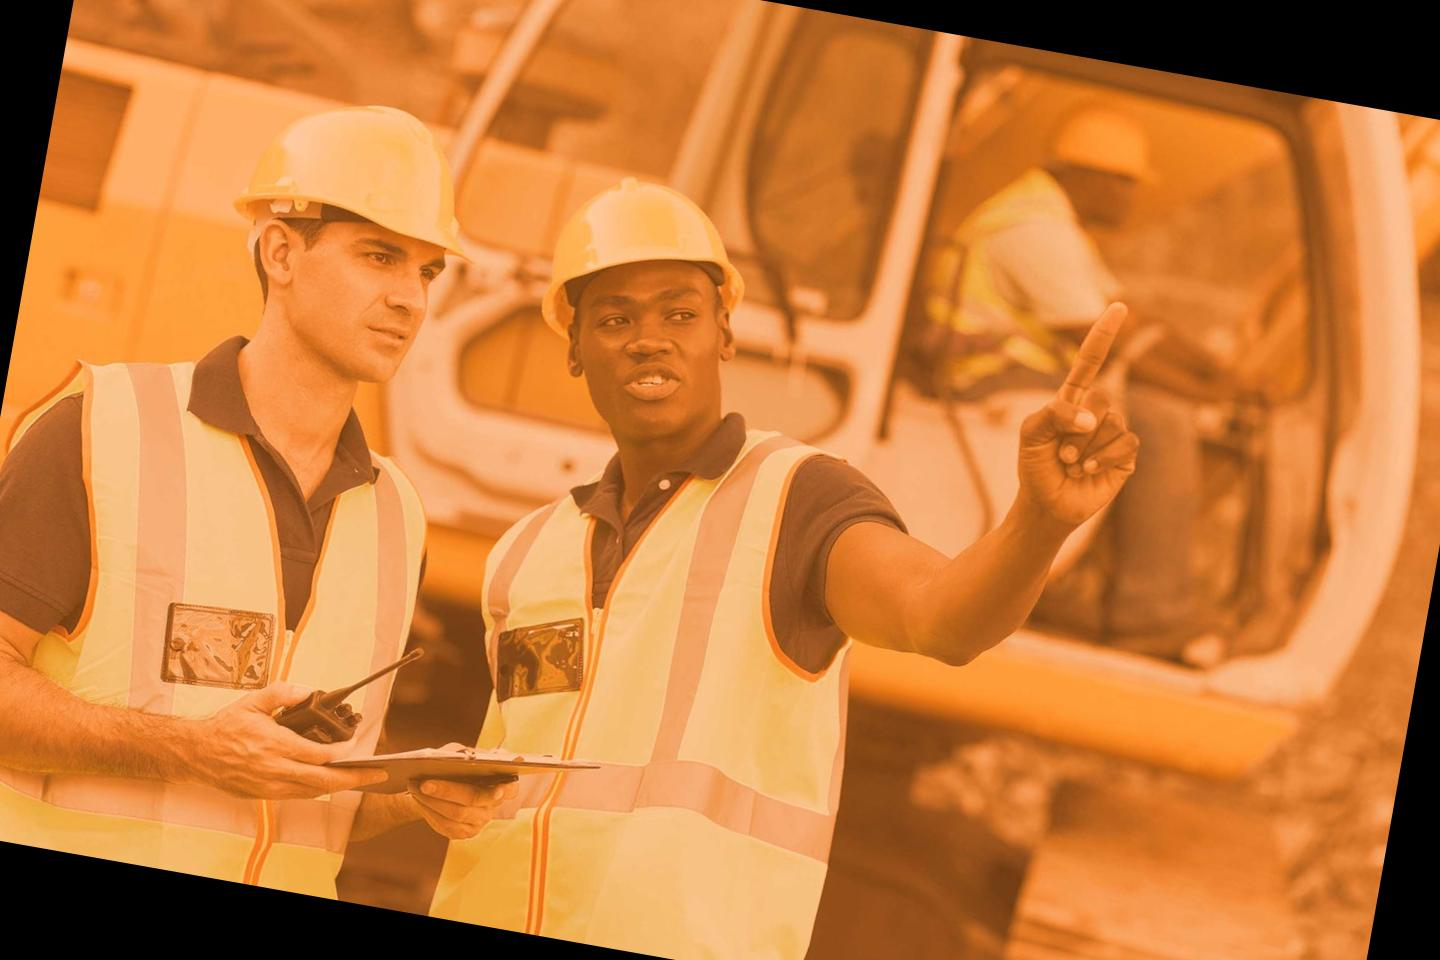helmet: (222, 80, 493, 273), (536, 165, 761, 367)
wear: (433, 410, 898, 960), (0, 339, 446, 904)
